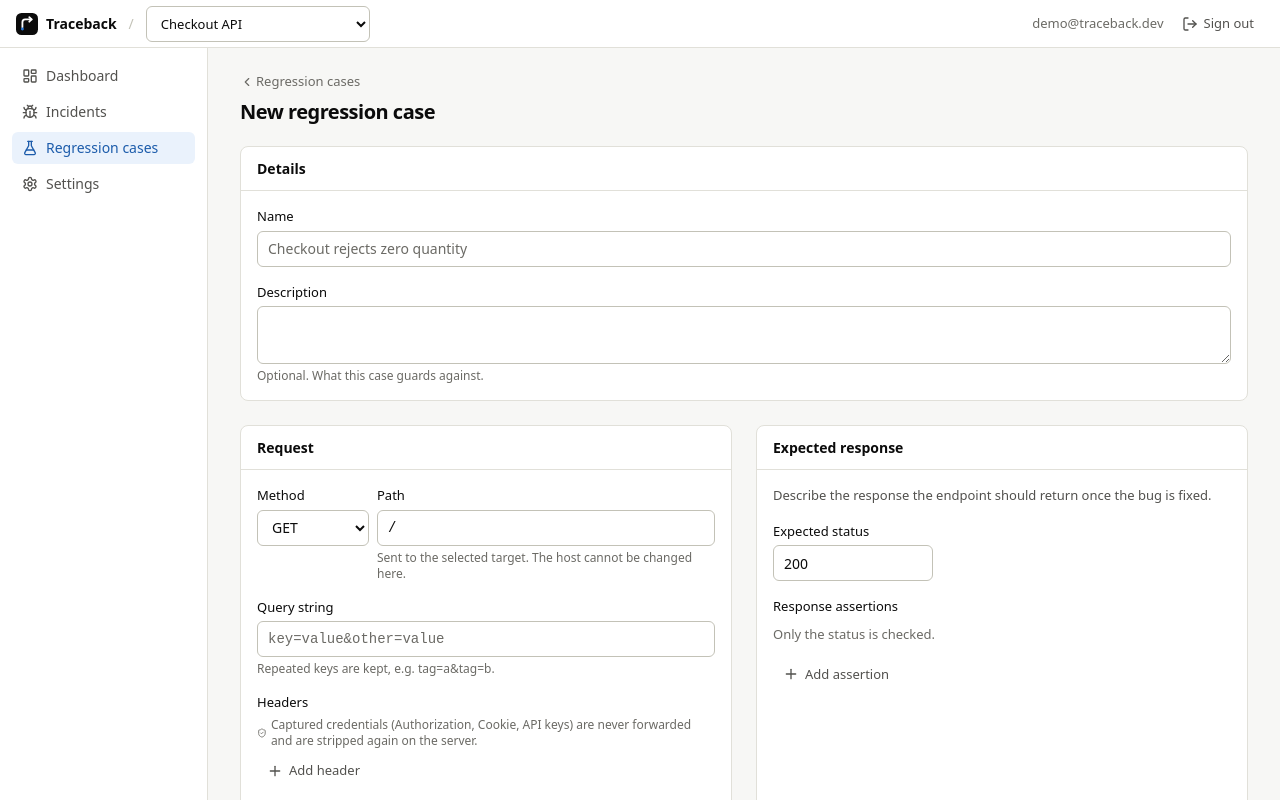
Test: regression cases › validates the case form
The width and height of the screenshot is (1280, 800).
Replace the text in the field labelled "Expected status" with "99" at (853, 563), box x1=773 y1=545 x2=933 y2=581
(page scrolled)
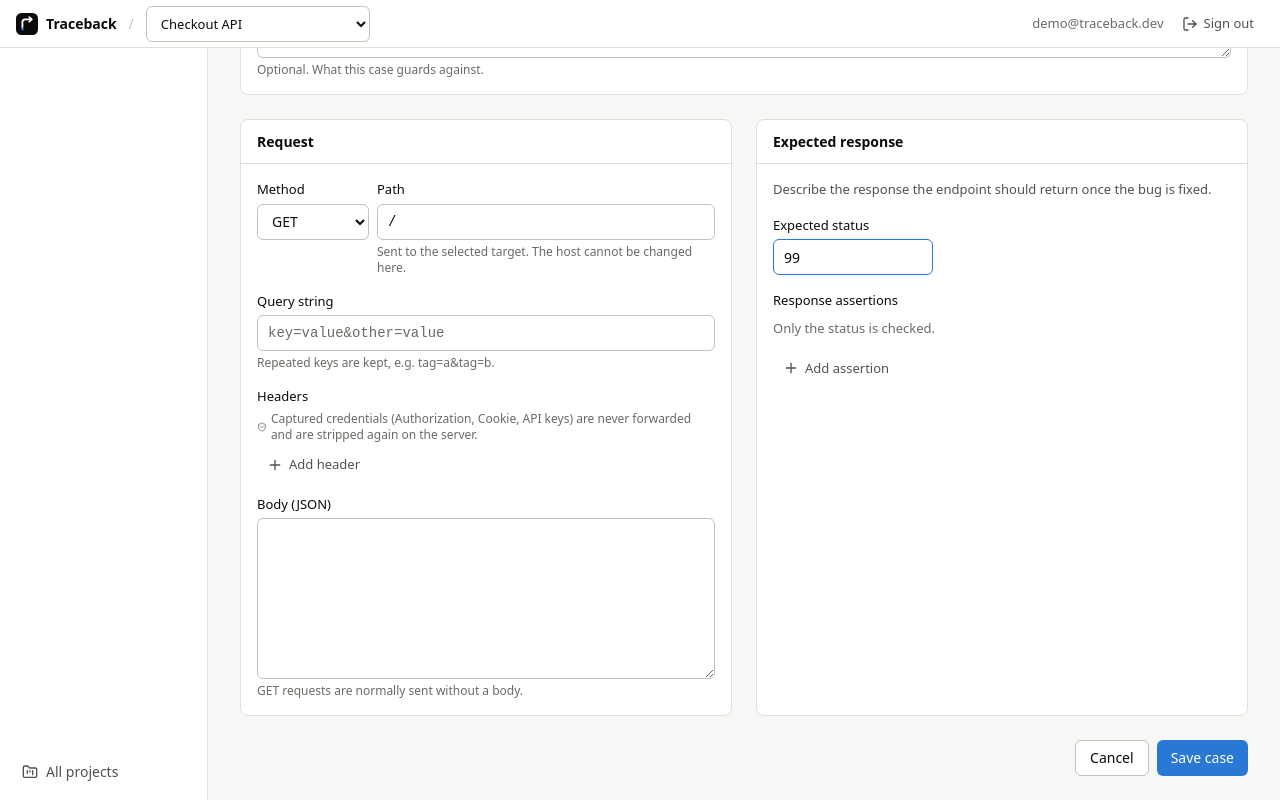
Click the button "Save case" at (1202, 758), box x1=1157 y1=740 x2=1248 y2=776
(page scrolled)
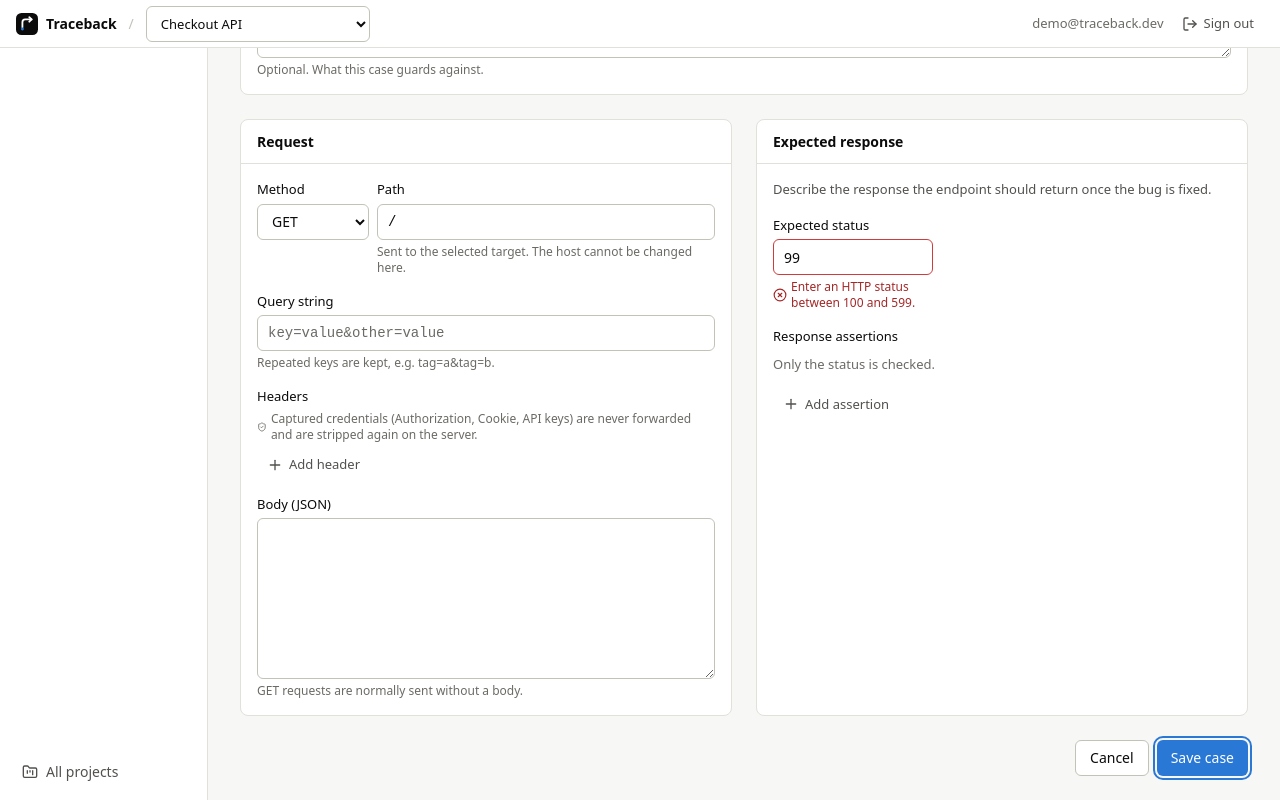
Expected: the text "Enter an HTTP status between 100 and 599." is shown, x1=773 y1=279 x2=933 y2=311
